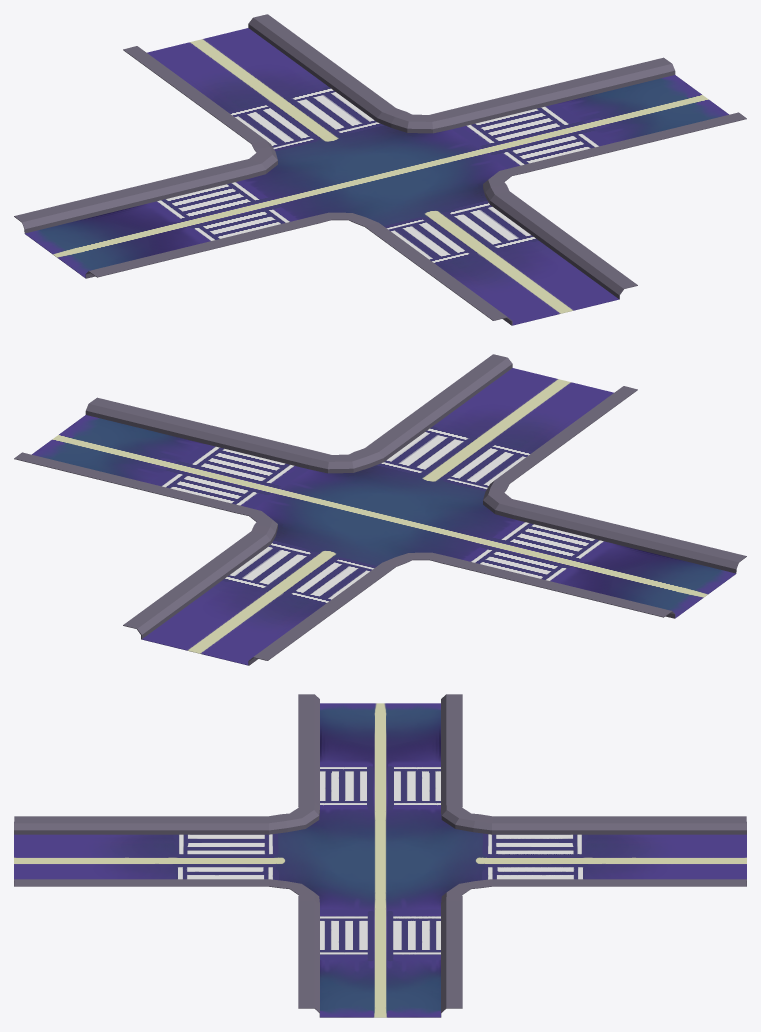
File: SM_ARCH_XRoad_v01.fbx
3 views of the same model, one above another, from view 1: azimuth 30°, elevation 25°; view 2: azimuth 150°, elevation 25°; view 3: azimuth 270°, elevation 25° (orthographic).
Parts seen in each view (by area): view 1: T-road.001; view 2: T-road.001; view 3: T-road.001.
Boxes of the visible parts, box(x1,y1,x2,y2) form: T-road.001: box(14, 14, 746, 325); T-road.001: box(14, 354, 746, 665); T-road.001: box(14, 694, 746, 1017).
Bounding box in the file's own units: 3204 × 46.21 × 3163.
2 materials, 1 textured.
